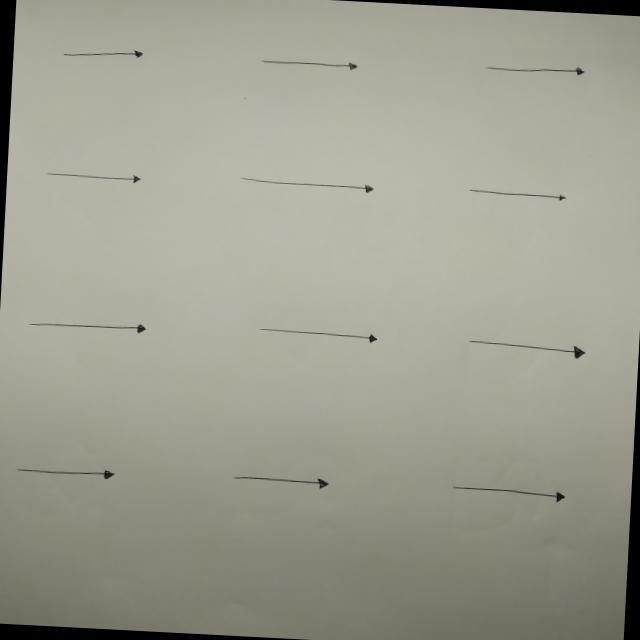arrow_line_right: (454, 327, 610, 370), (228, 166, 384, 204), (18, 304, 162, 344), (443, 472, 589, 509), (242, 318, 396, 352), (241, 44, 384, 80), (219, 463, 350, 498), (462, 179, 590, 214), (471, 52, 599, 86), (37, 158, 162, 192), (5, 458, 130, 492), (55, 37, 151, 72)
